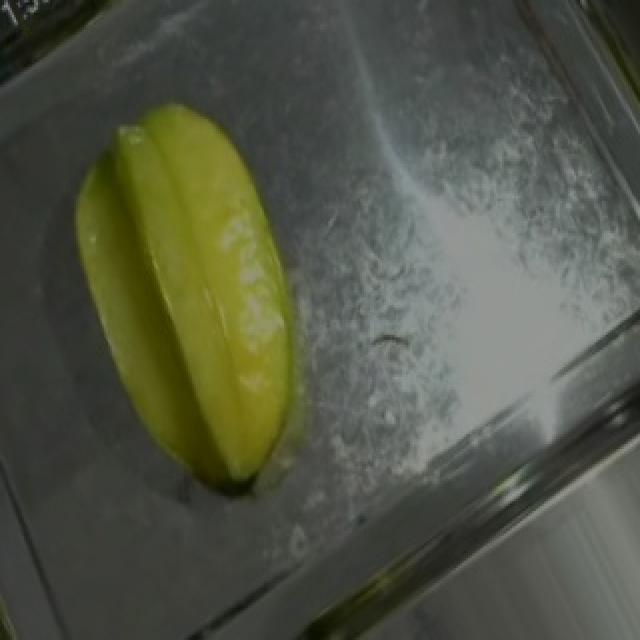fruit: (40, 72, 384, 484)
